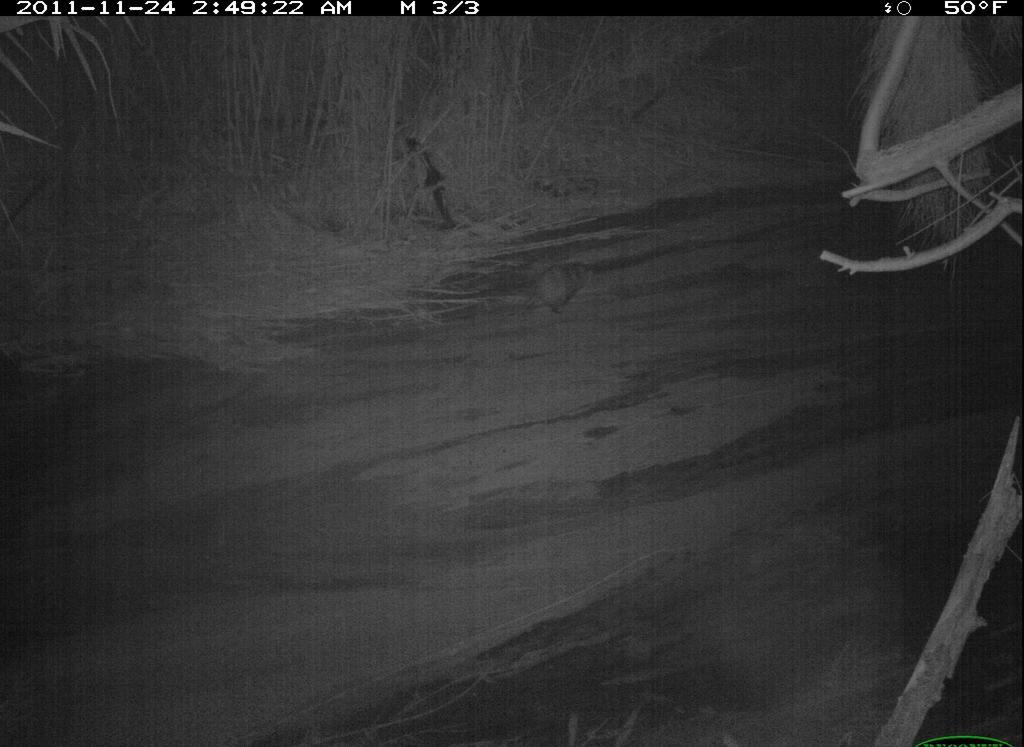opossum: (497, 239, 611, 332)
